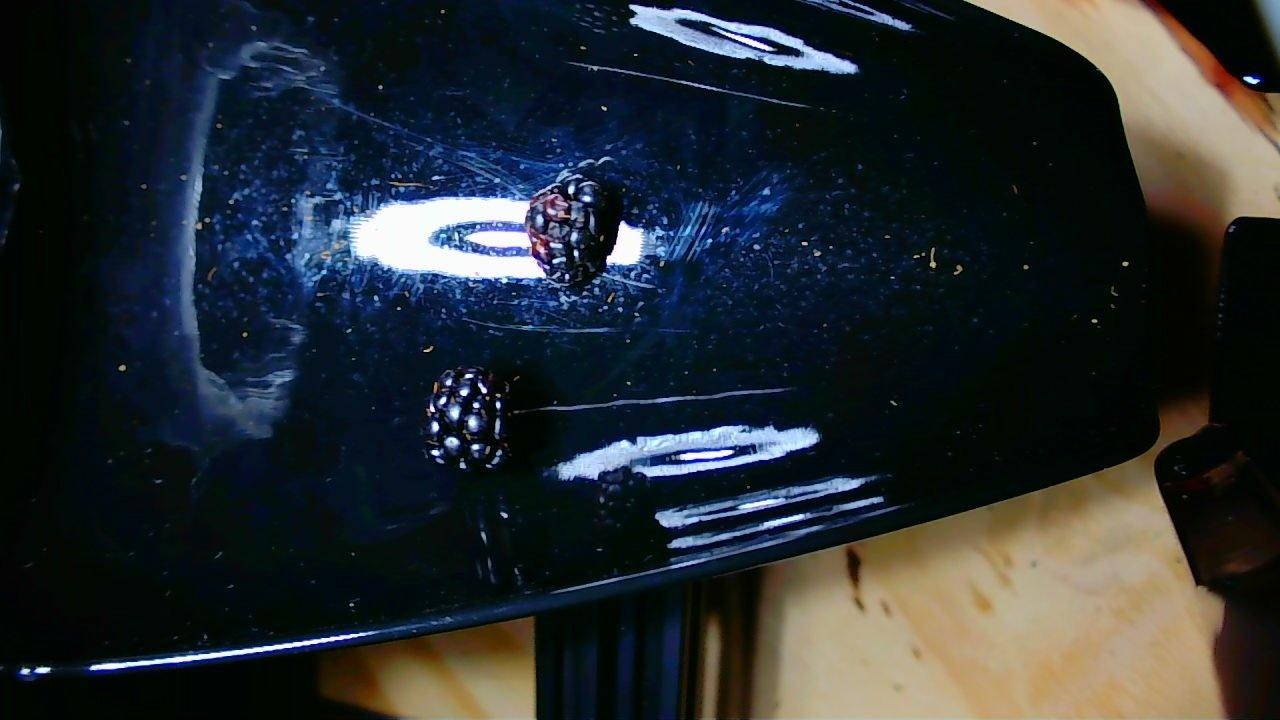berry: (525, 158, 621, 285), (425, 366, 508, 469)
